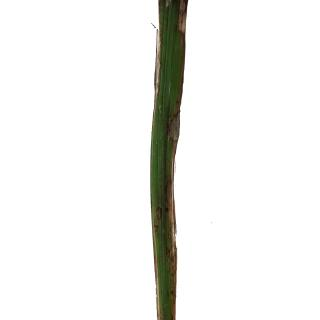Hawar-Daun: (151, 190, 179, 271), (161, 103, 172, 185), (169, 0, 189, 37), (156, 24, 166, 93)
